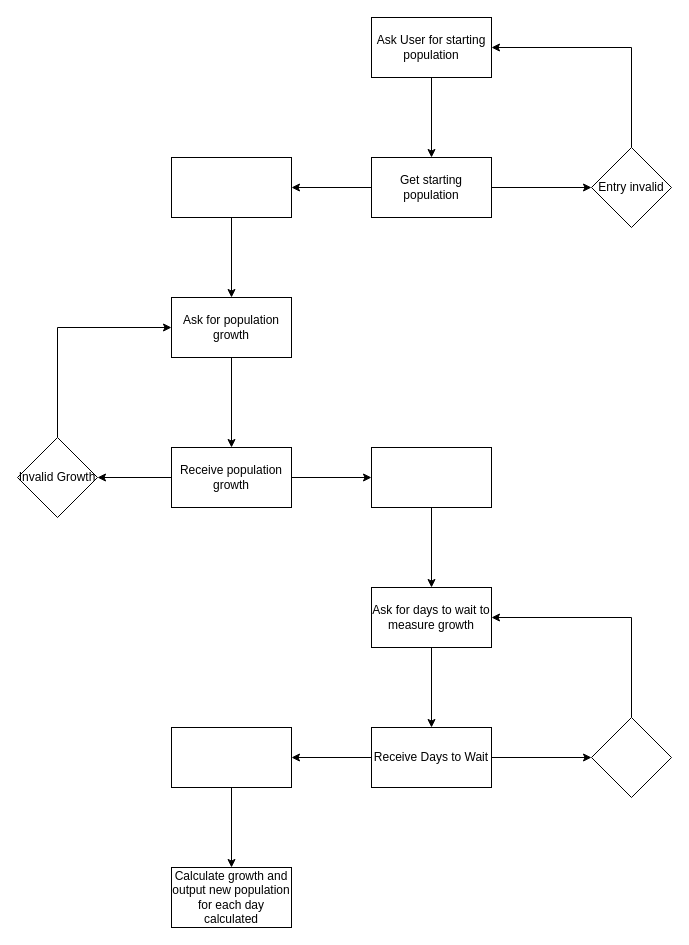
The diagram is 689 pixels wide and 945 high, and some of its shapes have lost their labels. Each missing label, with the centre of its shape:
"Invalid Days" belongs at (x=631, y=757).
"Valid Days" belongs at (x=231, y=757).
"Valid Population entry" belongs at (x=231, y=187).
"Valid population growth" belongs at (x=431, y=477).
